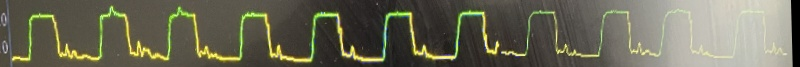hydrop_pressure: (1, 3, 703, 67)
